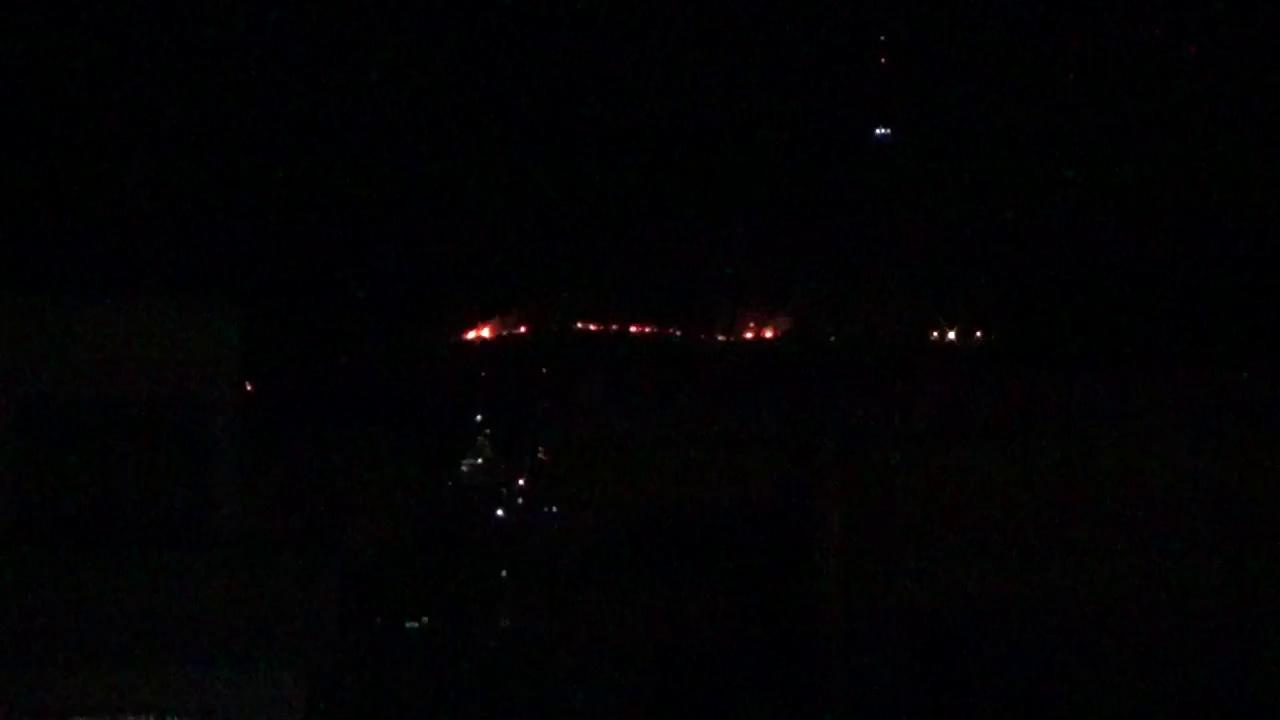fire: (464, 320, 506, 340)
